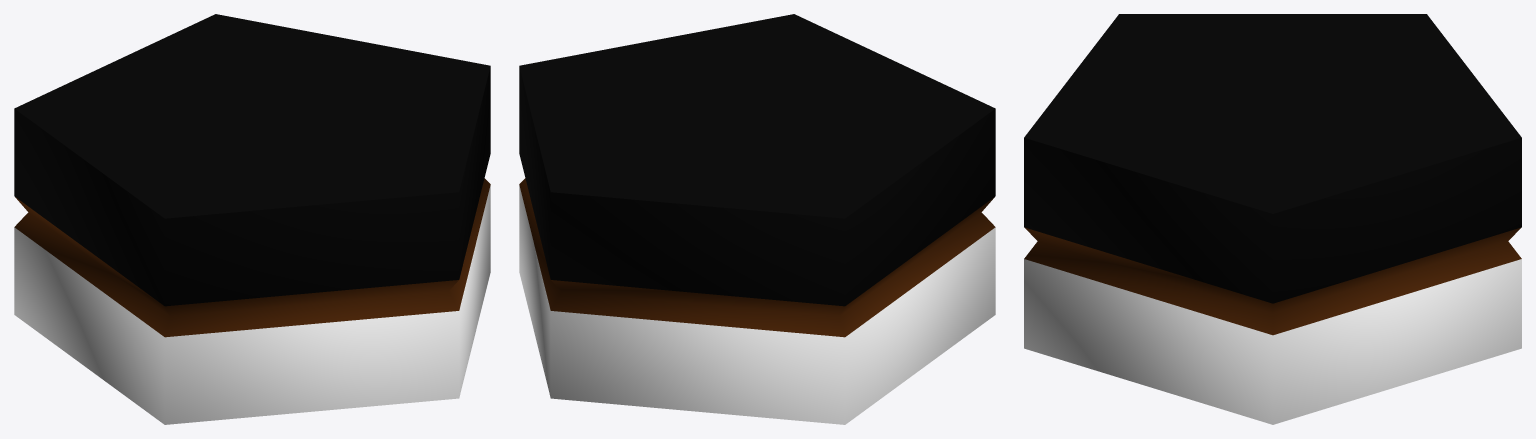
File: Mesh_PentagonHorse.fbx
The picture shows the model from 3 angles, left to right: view 1: azimuth 30°, elevation 25°; view 2: azimuth 150°, elevation 25°; view 3: azimuth 270°, elevation 25°; orthographic projection. The views are drawn at different scales.
Visible parts, largest first — view 1: Cylinder006; view 2: Cylinder006; view 3: Cylinder006.
Boxes of the visible parts, bbox=[...] form: Cylinder006: bbox=[14, 14, 490, 424]; Cylinder006: bbox=[519, 14, 995, 424]; Cylinder006: bbox=[1024, 14, 1521, 424].
Bounding box in the file's own units: 32.56 × 16 × 34.24.
